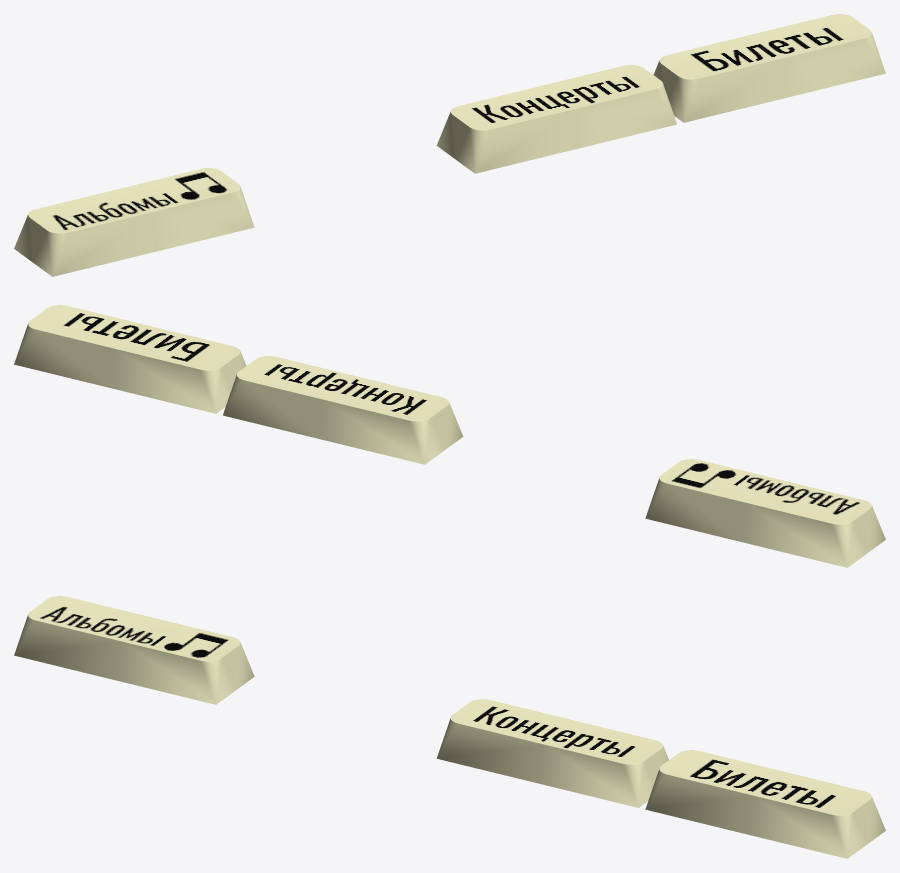
The model's file is action_keys_ru.glb.
The picture shows the model from 3 angles, top to bottom: view 1: azimuth 30°, elevation 25°; view 2: azimuth 150°, elevation 25°; view 3: azimuth 330°, elevation 25°; orthographic projection.
Visible parts, largest first — view 1: Альбомы, Концерты, Билеты; view 2: Альбомы, Концерты, Билеты; view 3: Альбомы, Билеты, Концерты.
Part boxes in pixels (x1,y1,x2,y2): Альбомы: (14,168,254,276); Концерты: (436,65,676,173); Билеты: (653,14,885,122); Альбомы: (645,459,885,567); Концерты: (223,356,463,464); Билеты: (14,305,246,413); Альбомы: (14,596,254,704); Билеты: (645,750,885,858); Концерты: (436,699,668,807).
Bounding box in the file's own units: 2.77 × 0.1185 × 0.2213.
Materials: 1 (1 with a texture image).
